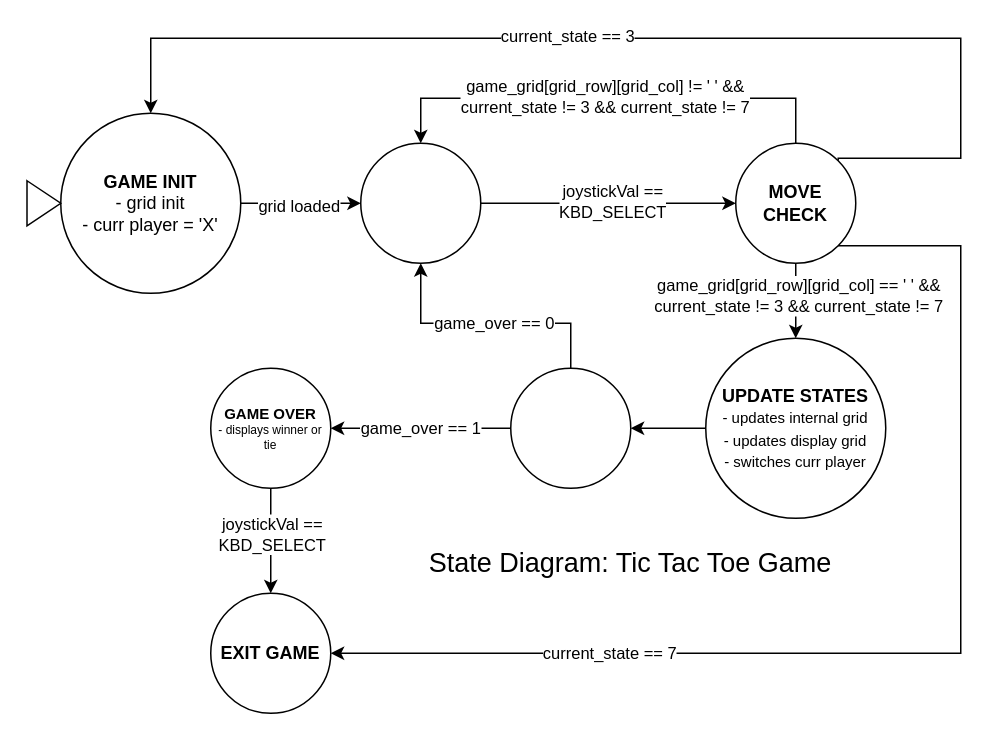
The diagram is 999 pixels wide and 740 high, and some of its shapes have lost their labels. The shapes that lost their labels are listed below. From the top down, each one's box as (x1, y1, x2, y2) in pixels, then its label:
(359, 142, 481, 263): PLAYER TURN
(509, 367, 631, 488): WINNER/TIE CHECK check_winner() check_tie()
